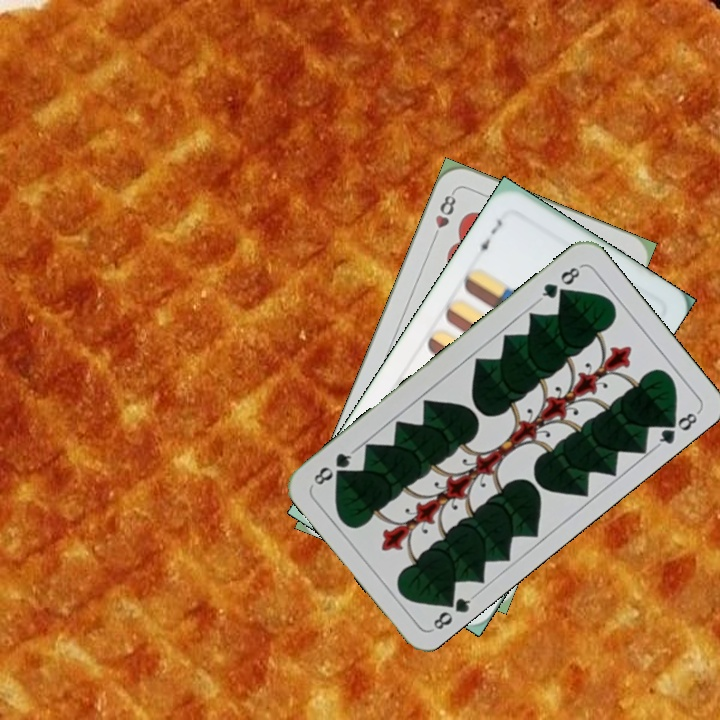E7: (472, 215, 505, 258)
G8: (426, 589, 478, 633), (535, 262, 584, 304)
H8: (428, 187, 459, 244)
